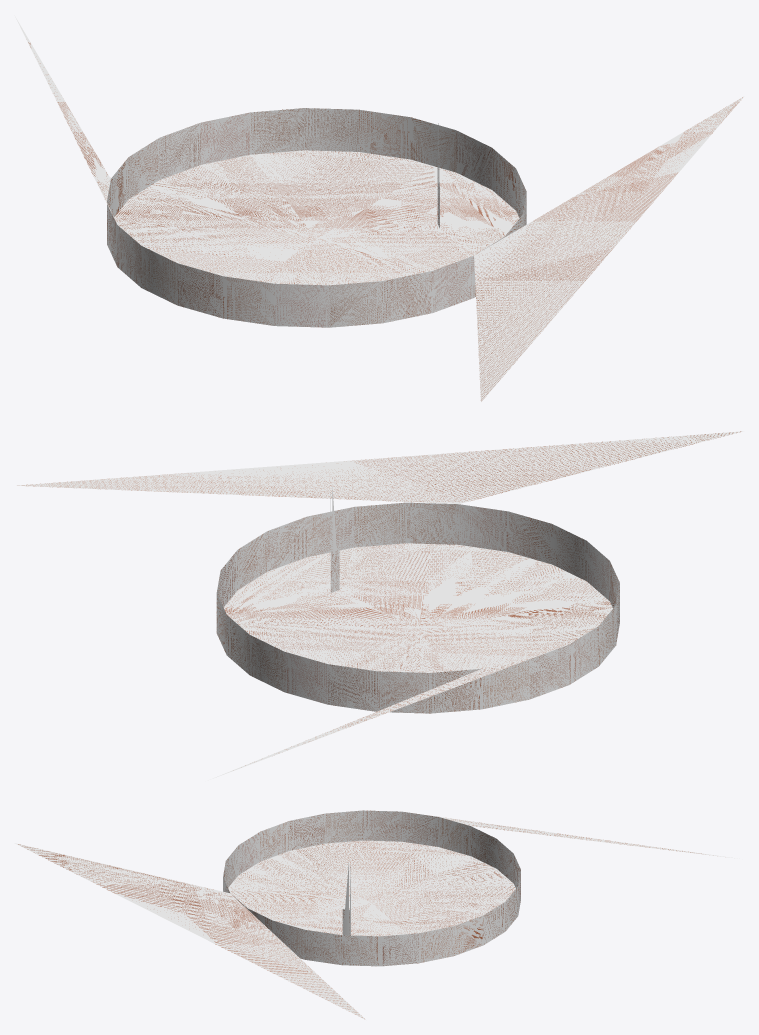
3 renders of one model, top to bottom at view 1: azimuth 30°, elevation 25°; view 2: azimuth 150°, elevation 25°; view 3: azimuth 270°, elevation 25°, orthographic. The views are drawn at different scales.
Bounding box in the file's own units: 0.1446 × 0.0357 × 0.2127.
